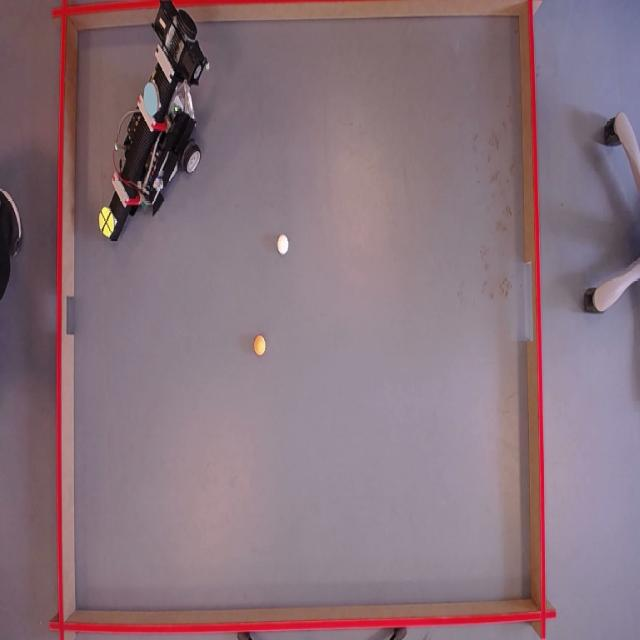orange: (255, 335, 268, 357)
robot: (104, 6, 208, 249)
robot-front: (98, 205, 115, 238)
robot-rear: (141, 83, 158, 113)
white: (276, 234, 288, 255)
